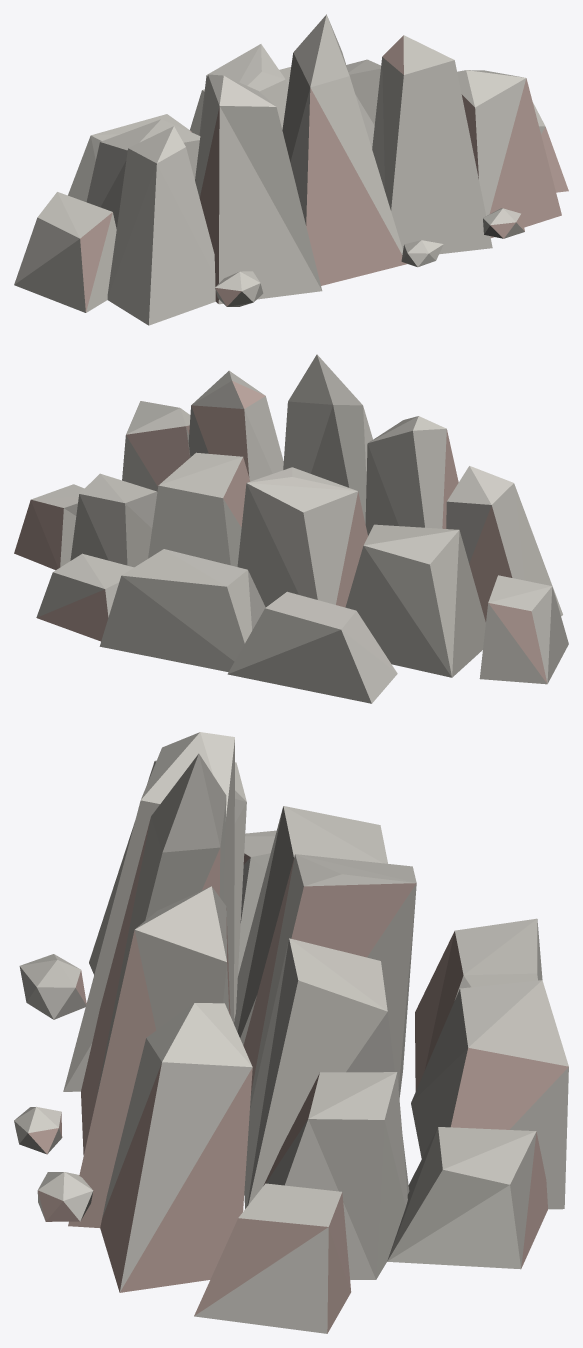
Rendered from goat-rock.glb.
3 views of the same model, one above another, from view 1: azimuth 30°, elevation 25°; view 2: azimuth 150°, elevation 25°; view 3: azimuth 270°, elevation 25° (orthographic). The views are drawn at different scales.
Parts seen in each view (by area): view 1: GoatRock; view 2: GoatRock; view 3: GoatRock.
Boxes of the visible parts, x1=… form: GoatRock: x1=14, y1=14, x2=568, y2=325; GoatRock: x1=14, y1=354, x2=568, y2=703; GoatRock: x1=14, y1=732, x2=568, y2=1333.
Bounding box in the file's own units: 19.25 × 8.06 × 10.81.
